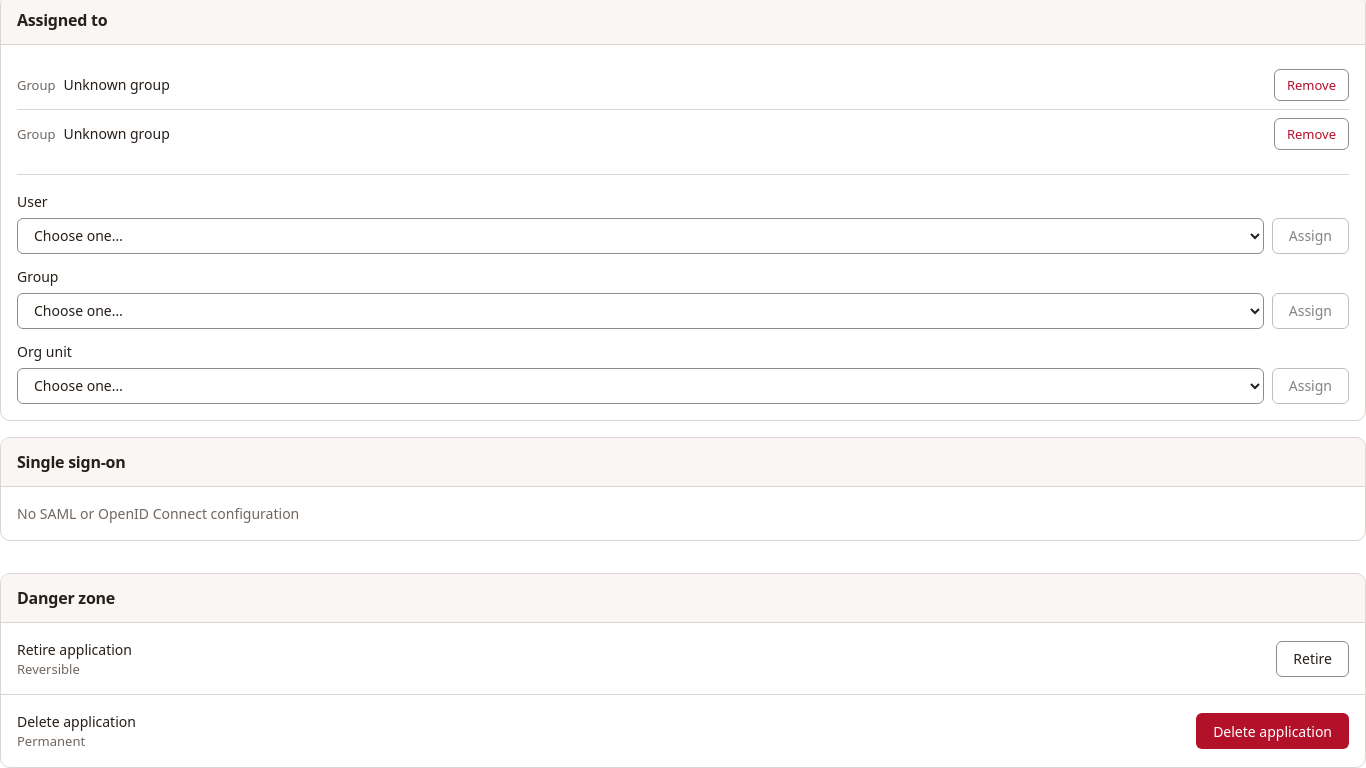
Test: the danger zone › retires the application as the reversible option
The width and height of the screenshot is (1366, 768).
(page scrolled)
Click the button "Retire" at (1313, 659), box [1276,641,1349,677]
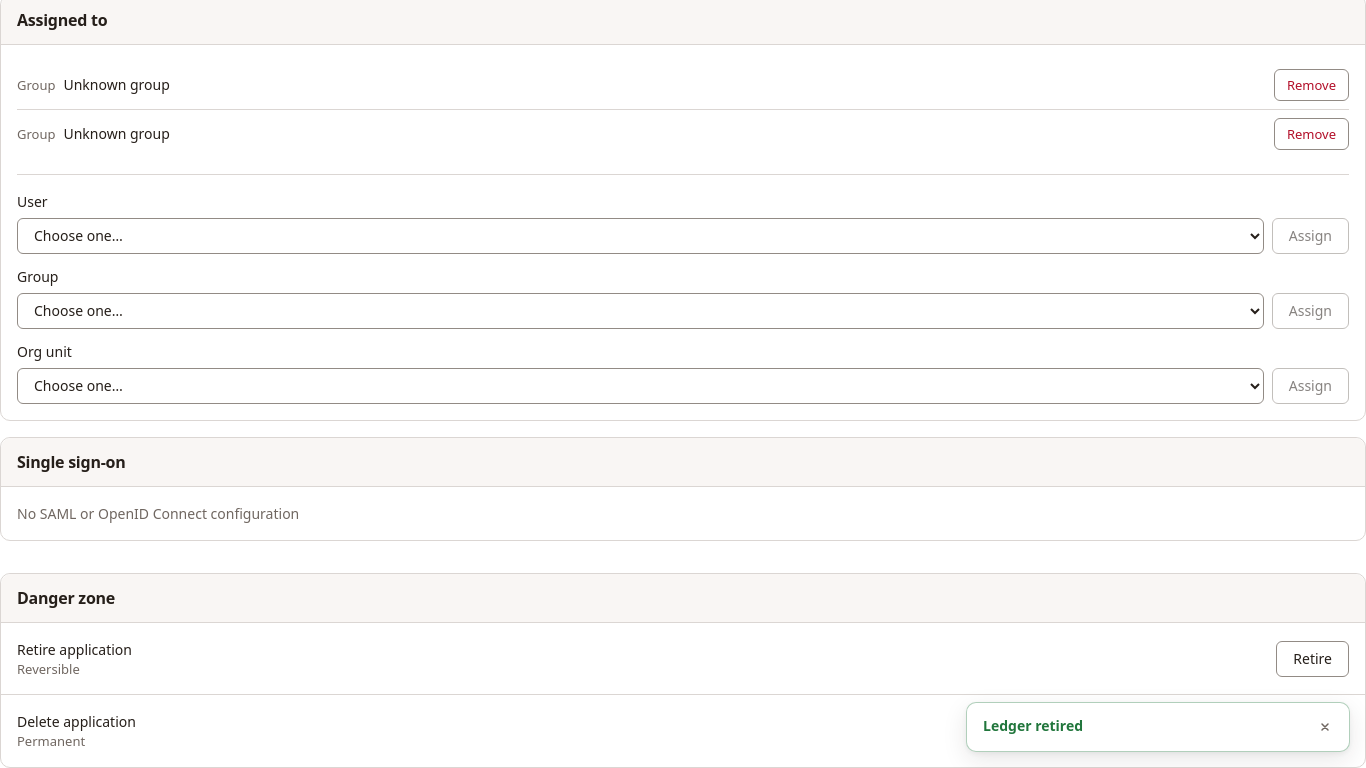
Result: the text "Ledger retired" is shown at [983,716,1083,735]
